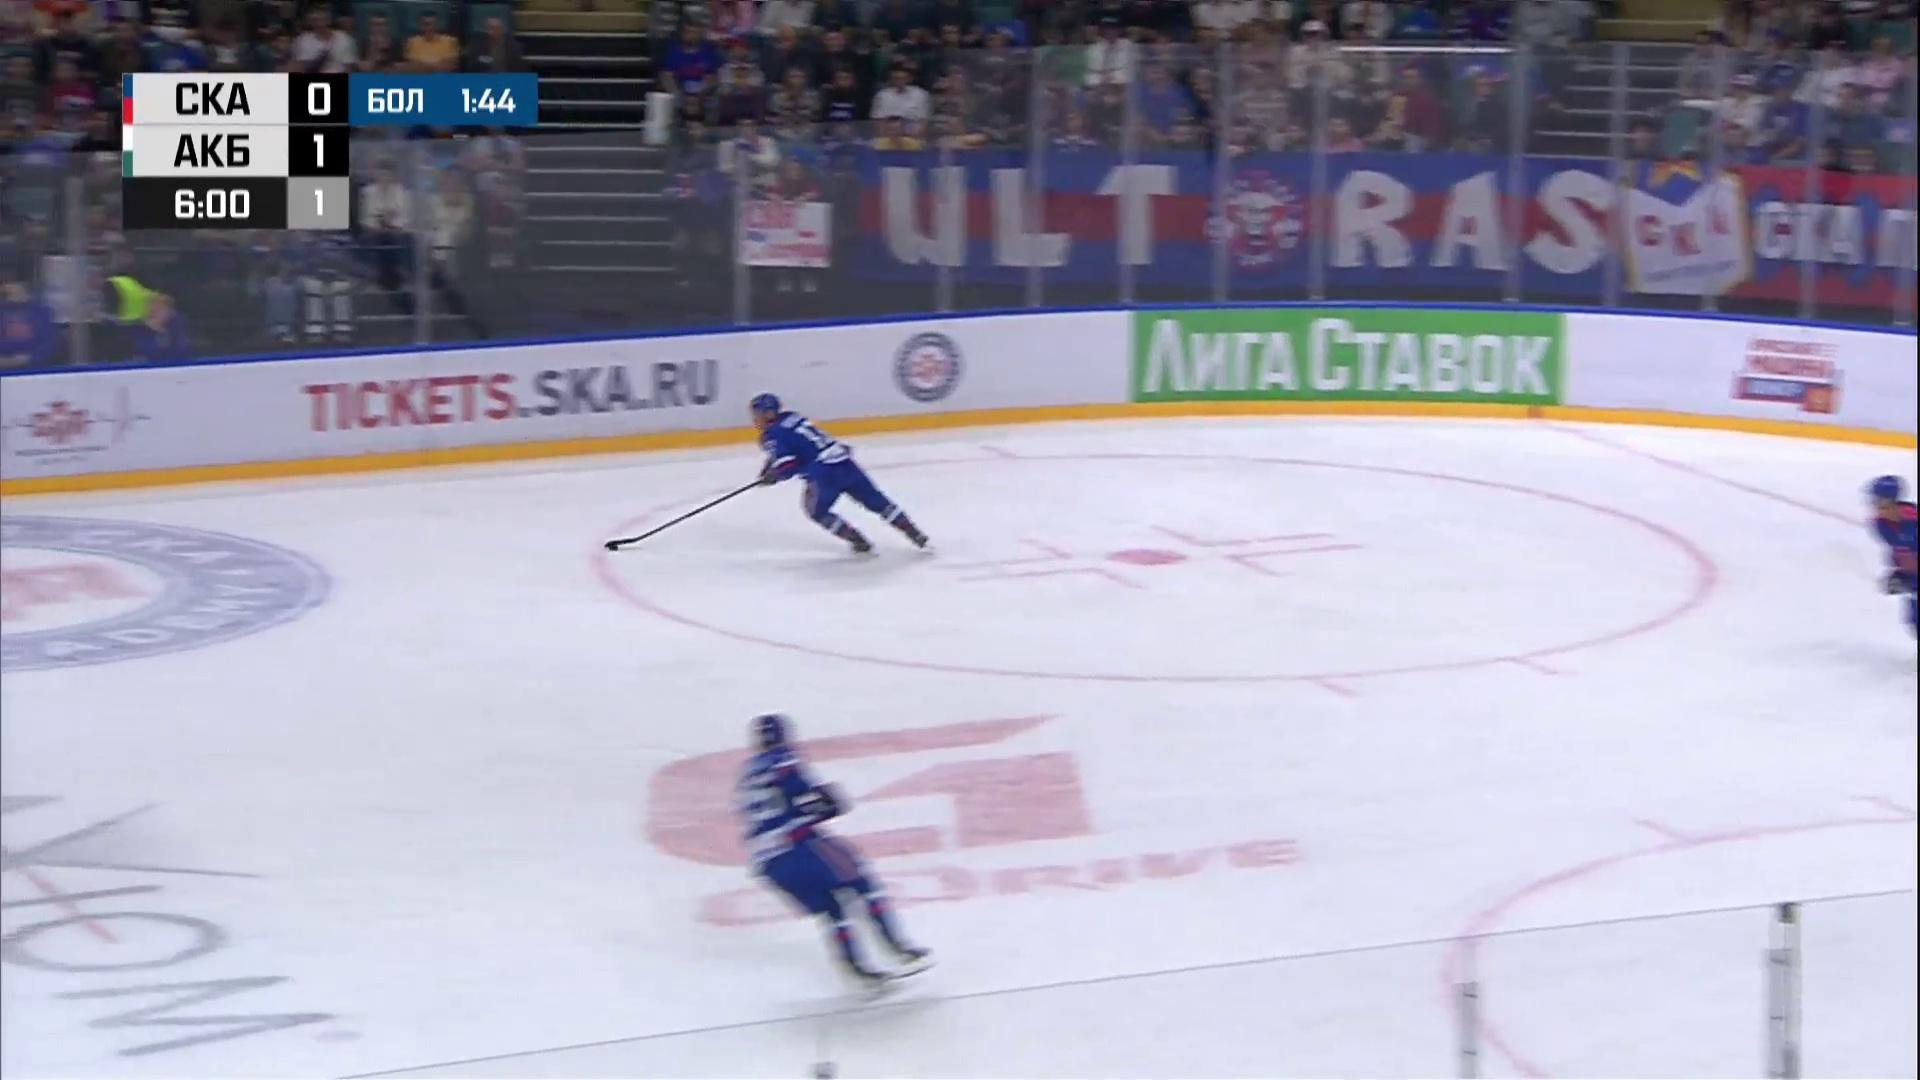ball: (609, 545, 618, 551)
